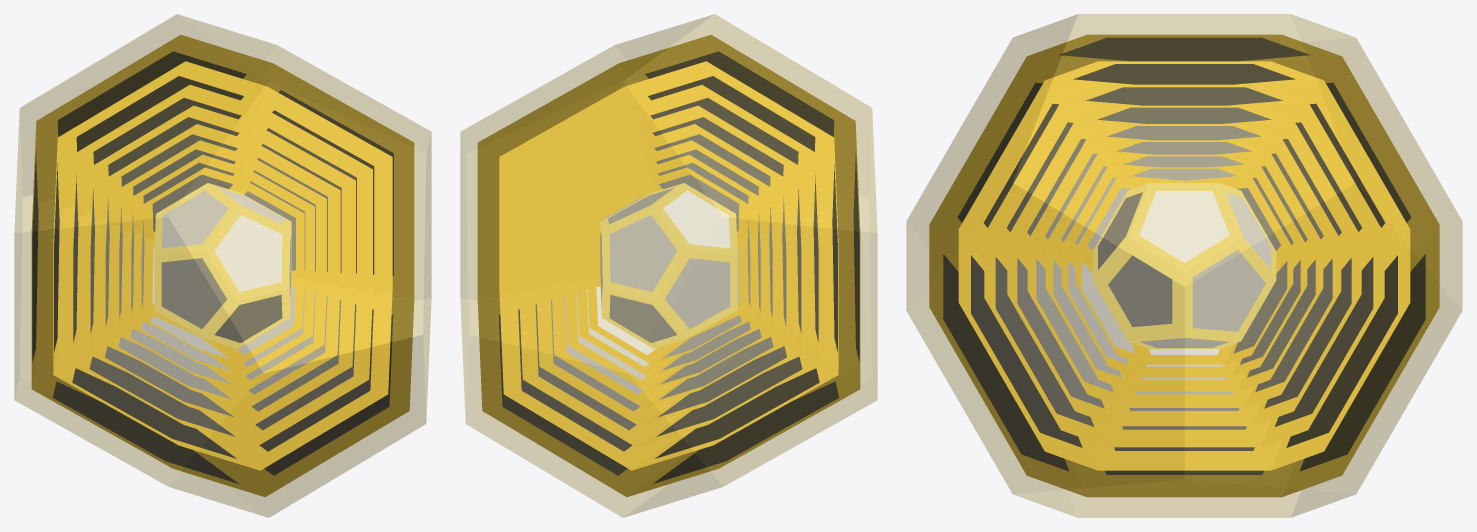
The model's file is engram.glb.
The picture shows the model from 3 angles, left to right: view 1: azimuth 30°, elevation 25°; view 2: azimuth 150°, elevation 25°; view 3: azimuth 270°, elevation 25°; orthographic projection. The views are drawn at different scales.
Visible parts, largest first — view 1: Casing, Ring 8, Ring 7, Ring 6, Center, Ring 5, Ring 4, Ring 3, Ring 1, Ring 2; view 2: Casing, Ring 8, Ring 7, Ring 6, Center, Ring 5, Ring 4, Ring 3, Ring 1, Ring 2; view 3: Casing, Ring 8, Ring 7, Ring 6, Center, Ring 5, Ring 4, Ring 3, Ring 1, Ring 2.
Part boxes in pixels (bbox=[...]): Casing: bbox=[14, 14, 431, 517]; Ring 8: bbox=[31, 35, 414, 496]; Ring 7: bbox=[53, 61, 392, 470]; Ring 6: bbox=[73, 85, 372, 446]; Center: bbox=[154, 183, 291, 348]; Ring 5: bbox=[90, 105, 355, 426]; Ring 4: bbox=[105, 124, 340, 407]; Ring 3: bbox=[119, 140, 326, 391]; Ring 1: bbox=[141, 167, 304, 364]; Ring 2: bbox=[131, 154, 314, 377]; Casing: bbox=[460, 14, 877, 517]; Ring 8: bbox=[477, 35, 860, 496]; Ring 7: bbox=[499, 61, 838, 470]; Ring 6: bbox=[519, 85, 818, 446]; Center: bbox=[600, 183, 737, 348]; Ring 5: bbox=[536, 105, 801, 426]; Ring 4: bbox=[551, 124, 786, 407]; Ring 3: bbox=[565, 140, 772, 391]; Ring 1: bbox=[587, 167, 750, 364]; Ring 2: bbox=[577, 154, 760, 377]; Casing: bbox=[906, 14, 1462, 517]; Ring 8: bbox=[929, 34, 1439, 497]; Ring 7: bbox=[958, 61, 1410, 470]; Ring 6: bbox=[984, 84, 1384, 447]; Center: bbox=[1092, 183, 1276, 348]; Ring 5: bbox=[1007, 105, 1361, 426]; Ring 4: bbox=[1027, 124, 1341, 407]; Ring 3: bbox=[1045, 140, 1323, 391]; Ring 1: bbox=[1075, 167, 1293, 364]; Ring 2: bbox=[1061, 154, 1307, 377].
Bounding box in the file's own units: 2.83 × 2.83 × 2.83.
